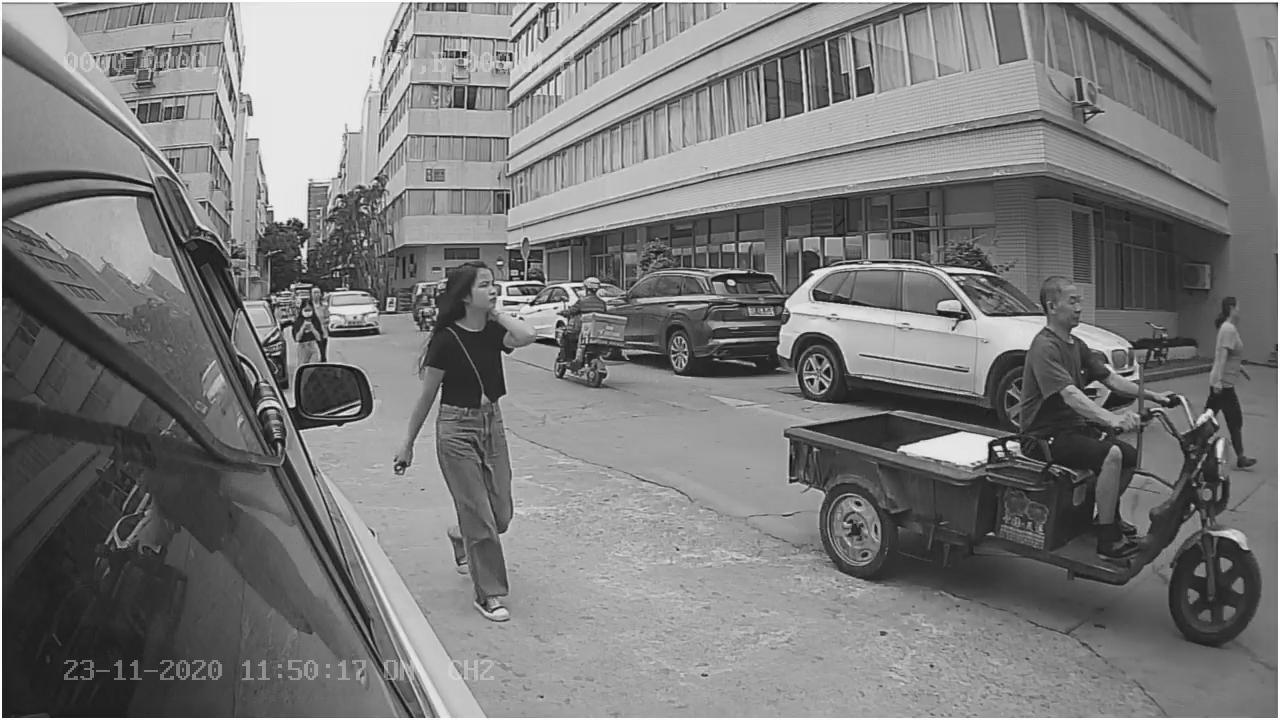person: (381, 231, 543, 474), (1025, 274, 1160, 429)
